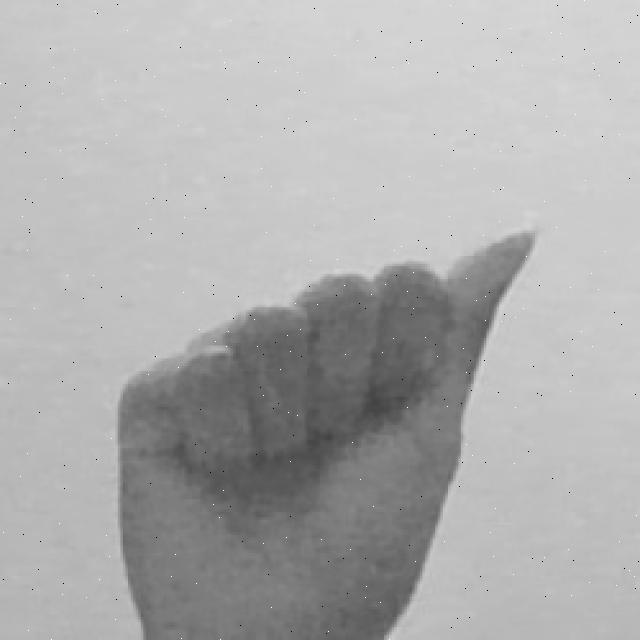A: (108, 212, 550, 640)
